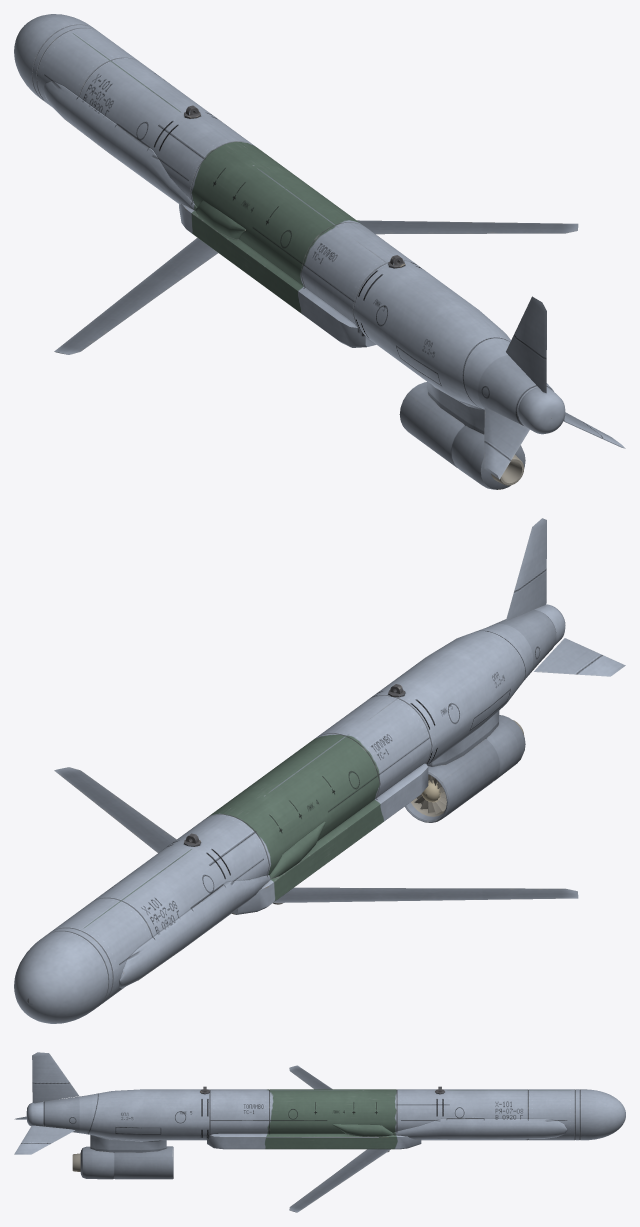
The picture shows the model from 3 angles, top to bottom: view 1: azimuth 30°, elevation 25°; view 2: azimuth 150°, elevation 25°; view 3: azimuth 270°, elevation 25°; orthographic projection. The views are drawn at different scales.
Parts seen in each view (by area): view 1: K101_body_2, K101_fixed_3, nacelle_4, wing2_8, wing1_7, fin_1, stab2_6; view 2: K101_body_2, K101_fixed_3, nacelle_4, wing2_8, wing1_7, fin_1, stab2_6, fan_0; view 3: K101_body_2, K101_fixed_3, nacelle_4, fin_1, wing1_7, stab1_5, wing2_8.
Part boxes in pixels (x1=…): K101_body_2: x1=14, y1=14, x2=565, y2=434; K101_fixed_3: x1=43, y1=81, x2=405, y2=347; nacelle_4: x1=399, y1=381, x2=525, y2=489; wing2_8: x1=54, y1=238, x2=217, y2=354; wing1_7: x1=357, y1=220, x2=578, y2=234; fin_1: x1=506, y1=296, x2=546, y2=393; stab2_6: x1=484, y1=408, x2=529, y2=479; K101_body_2: x1=14, y1=604, x2=565, y2=1023; K101_fixed_3: x1=119, y1=684, x2=428, y2=988; nacelle_4: x1=404, y1=710, x2=525, y2=822; wing2_8: x1=273, y1=887, x2=578, y2=904; wing1_7: x1=54, y1=767, x2=176, y2=852; fin_1: x1=506, y1=518, x2=546, y2=620; stab2_6: x1=534, y1=638, x2=625, y2=676; fan_0: x1=414, y1=775, x2=446, y2=813; K101_body_2: x1=26, y1=1089, x2=625, y2=1140; K101_fixed_3: x1=200, y1=1086, x2=567, y2=1149; nacelle_4: x1=72, y1=1135, x2=173, y2=1179; fin_1: x1=32, y1=1052, x2=79, y2=1103; wing1_7: x1=289, y1=1149, x2=390, y2=1212; stab1_5: x1=14, y1=1125, x2=74, y2=1154; wing2_8: x1=289, y1=1065, x2=332, y2=1089.
Bounding box in the file's own units: 4.24 × 1.69 × 7.45.
Materials: 2 (2 with a texture image).
